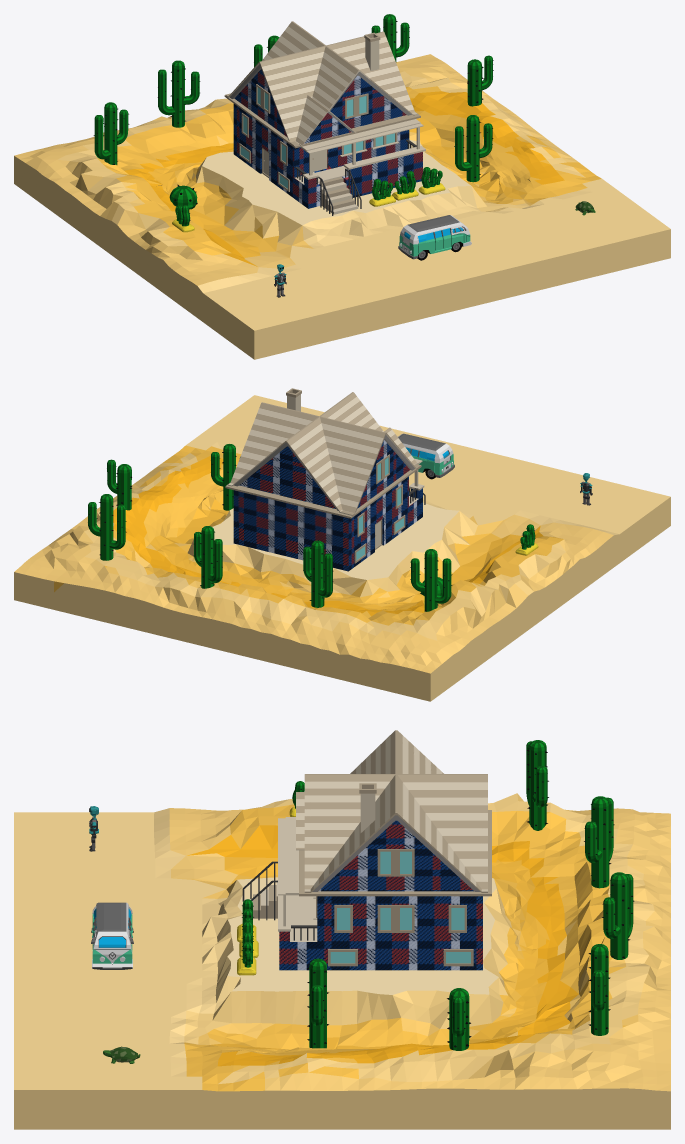
3 renders of one model, top to bottom at view 1: azimuth 30°, elevation 25°; view 2: azimuth 150°, elevation 25°; view 3: azimuth 270°, elevation 25°, orthographic. The views are drawn at different scales.
Parts seen in each view (by area): view 1: Cube.001, Cube.171, VEHICLES_VAN, Cylinder.037, Cylinder.044, Cylinder.045, Cylinder.038, Cylinder.042, Cylinder.039, Cylinder.041, Sphere.023, Cylinder.040; view 2: Cube.001, Cube.171, Cylinder.042, Cylinder.045, VEHICLES_VAN, Cylinder.044, Cylinder.043, Cylinder.037, Cylinder.038; view 3: Cube.001, Cube.171, VEHICLES_VAN, Cylinder.043, Cylinder.044, Cylinder.045, Cylinder.042, Cylinder.037, Cylinder.038, Cylinder.041.
Part boxes in pixels (x1,y1,x2,y2): Cube.001: (14,54,670,359); Cube.171: (224,21,425,215); VEHICLES_VAN: (398,215,471,260); Cylinder.037: (454,115,493,182); Cylinder.044: (157,60,200,127); Cylinder.045: (93,102,129,164); Cylinder.038: (467,55,493,106); Cylinder.042: (371,14,409,62); Cylinder.039: (369,179,395,206); Cylinder.041: (418,167,445,194); Sphere.023: (169,184,197,209); Cylinder.040: (392,171,418,200); Cube.001: (14,395,670,701); Cube.171: (225,388,425,571); Cylinder.042: (88,494,126,560); Cylinder.045: (410,549,452,611); VEHICLES_VAN: (398,433,454,479); Cylinder.044: (303,540,333,607); Cylinder.043: (193,526,222,588); Cylinder.037: (211,444,240,510); Cylinder.038: (107,459,131,510); Cube.001: (14,793,670,1129); Cube.171: (242,730,491,970); VEHICLES_VAN: (91,902,133,969); Cylinder.043: (602,872,634,959); Cylinder.044: (584,796,614,888); Cylinder.045: (526,740,548,830); Cylinder.042: (588,944,610,1035); Cylinder.037: (307,958,328,1048); Cylinder.038: (447,988,471,1050); Cylinder.041: (237,932,256,975).
Size of the model in its own units: 4002 by 1630 by 4001.
35 materials, 3 textured.
